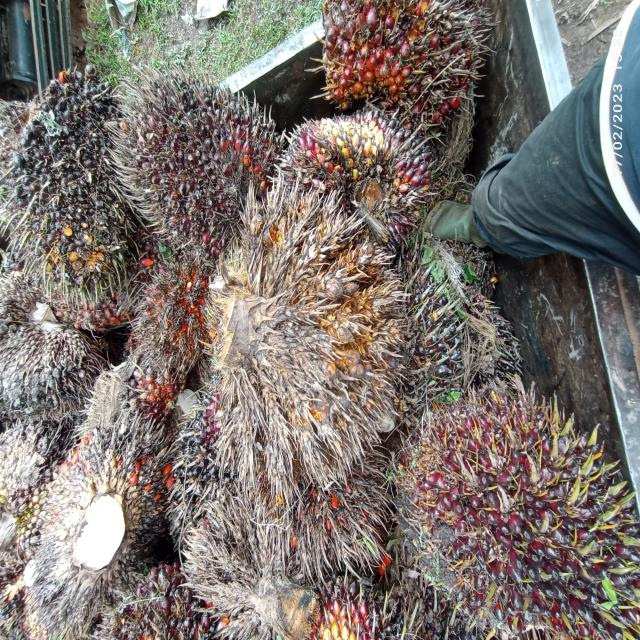fraksi 00: (124, 36, 287, 262), (0, 49, 127, 330), (2, 308, 112, 429)
fraksi 1: (409, 381, 640, 640), (324, 0, 483, 117)
fraksi 4: (130, 248, 212, 383)
